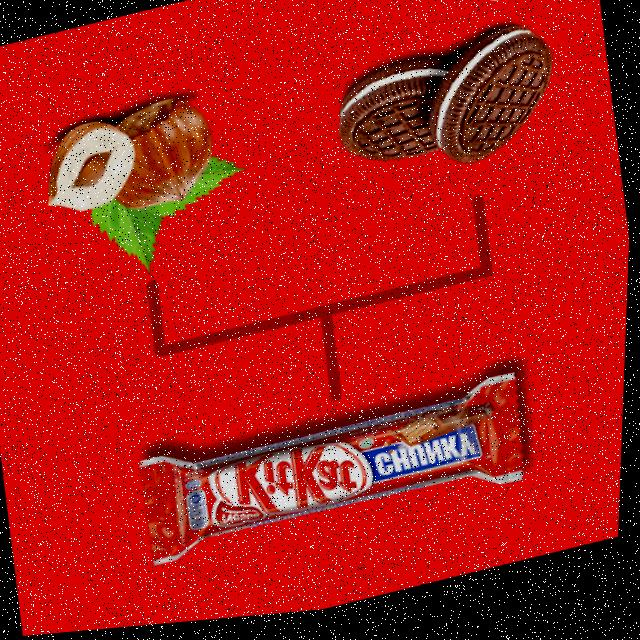kitkat: (141, 373, 540, 572)
